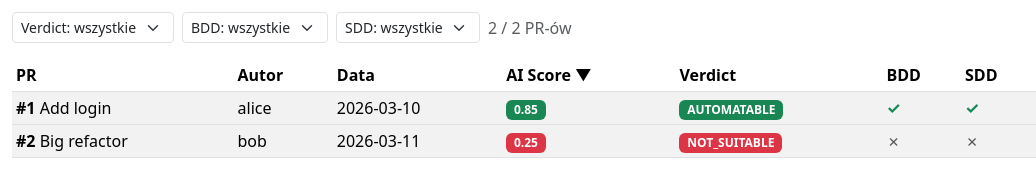
Scenario: ProjectPrTable › filters by BDD
The image size is (1036, 175).
Select "BDD: tak" in the 2nd dropdown: (255, 28) [182, 12, 328, 43]
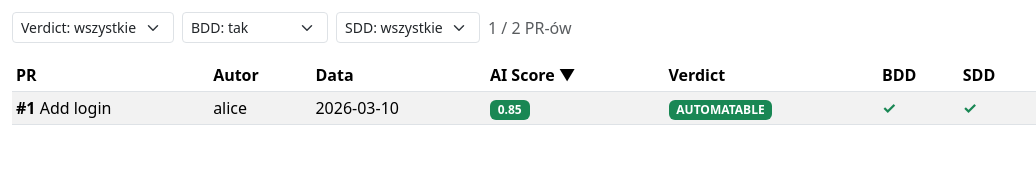
Check: the text "Add login" is shown, box [40, 97, 111, 119]
Check: the button "Big refactor" is gone
